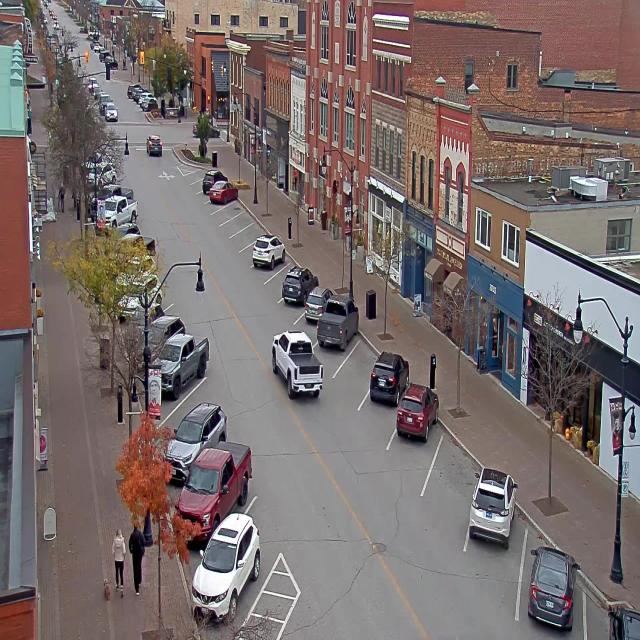available: (429, 430, 481, 513), (168, 364, 219, 416), (343, 331, 379, 388), (261, 261, 285, 299), (219, 215, 249, 239), (237, 241, 259, 273), (210, 202, 238, 224), (228, 227, 248, 256), (186, 169, 204, 184), (188, 180, 203, 196)
occupied: (192, 511, 261, 624), (175, 433, 260, 519), (164, 400, 228, 484), (527, 544, 579, 631), (468, 466, 517, 547), (153, 331, 210, 398), (586, 588, 638, 639), (394, 383, 435, 446), (316, 296, 358, 352), (368, 349, 409, 405), (282, 265, 318, 304), (252, 232, 285, 269), (303, 286, 329, 326), (209, 179, 238, 204), (201, 169, 225, 194)
